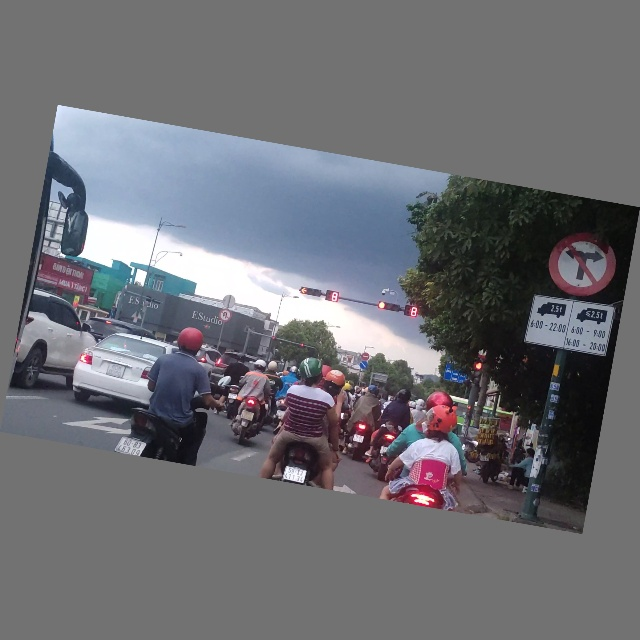P.102: (360, 353, 370, 362)
P.124a*: (218, 308, 233, 324)
P.137: (543, 227, 621, 303)
R.302a: (358, 361, 369, 371)
S.505a*Xe tai: (525, 293, 615, 358)
